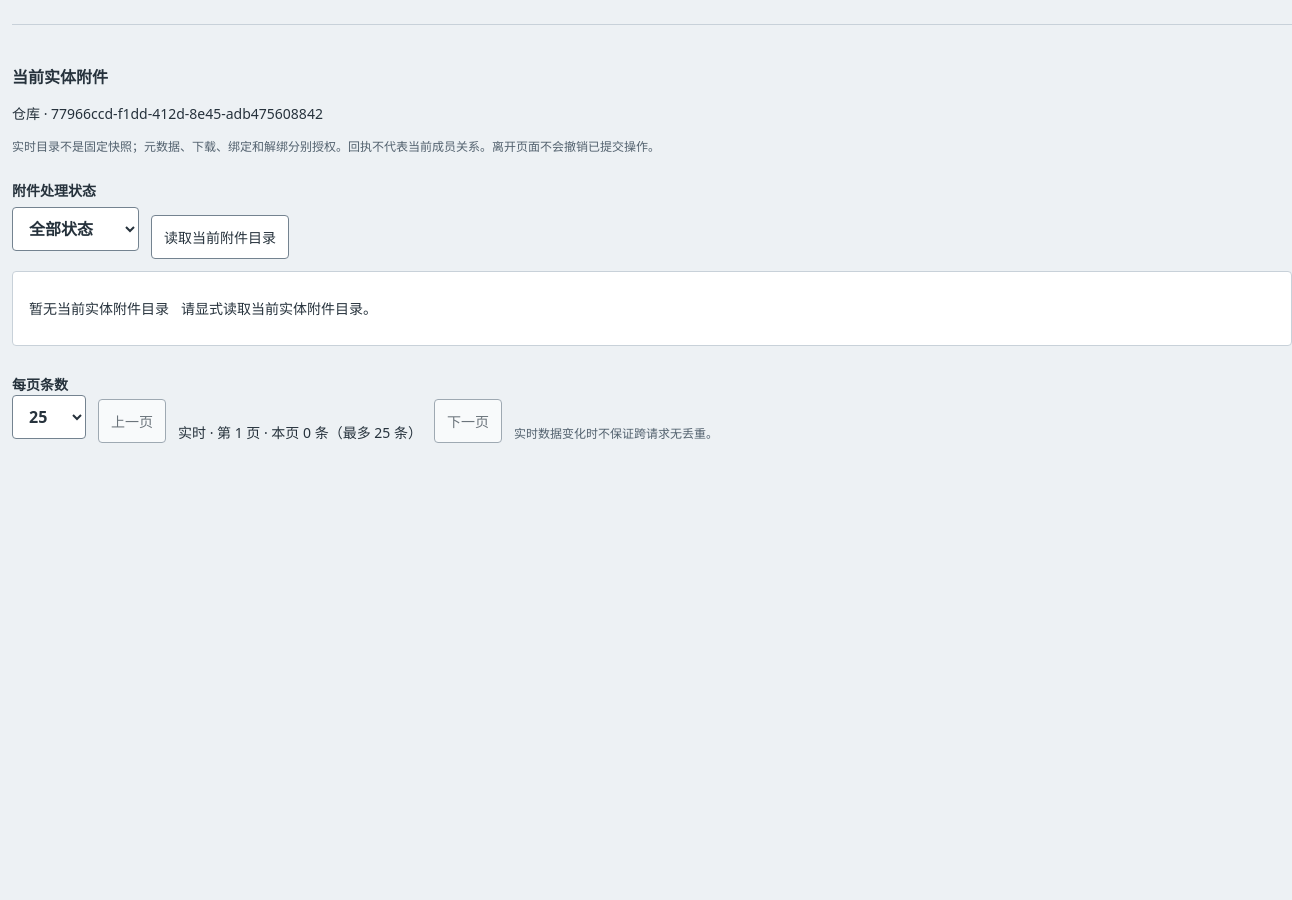
leaves a failed same-query list explicitly stale and unselectable
Click the button with test id "attachments-read": (220, 237) 151,215 -> 289,259
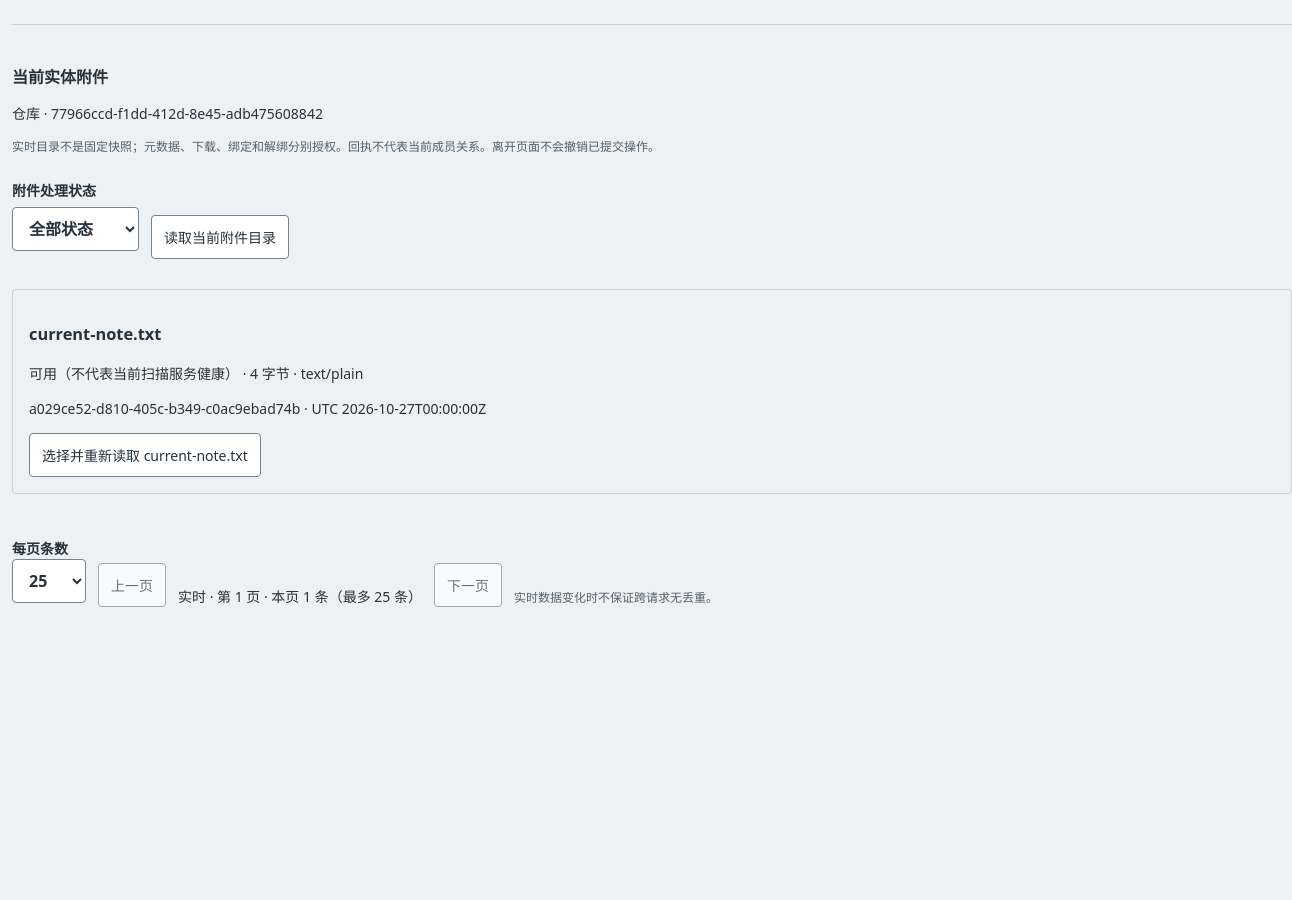
Click the button with test id "attachments-read": (220, 237) 151,215 -> 289,259
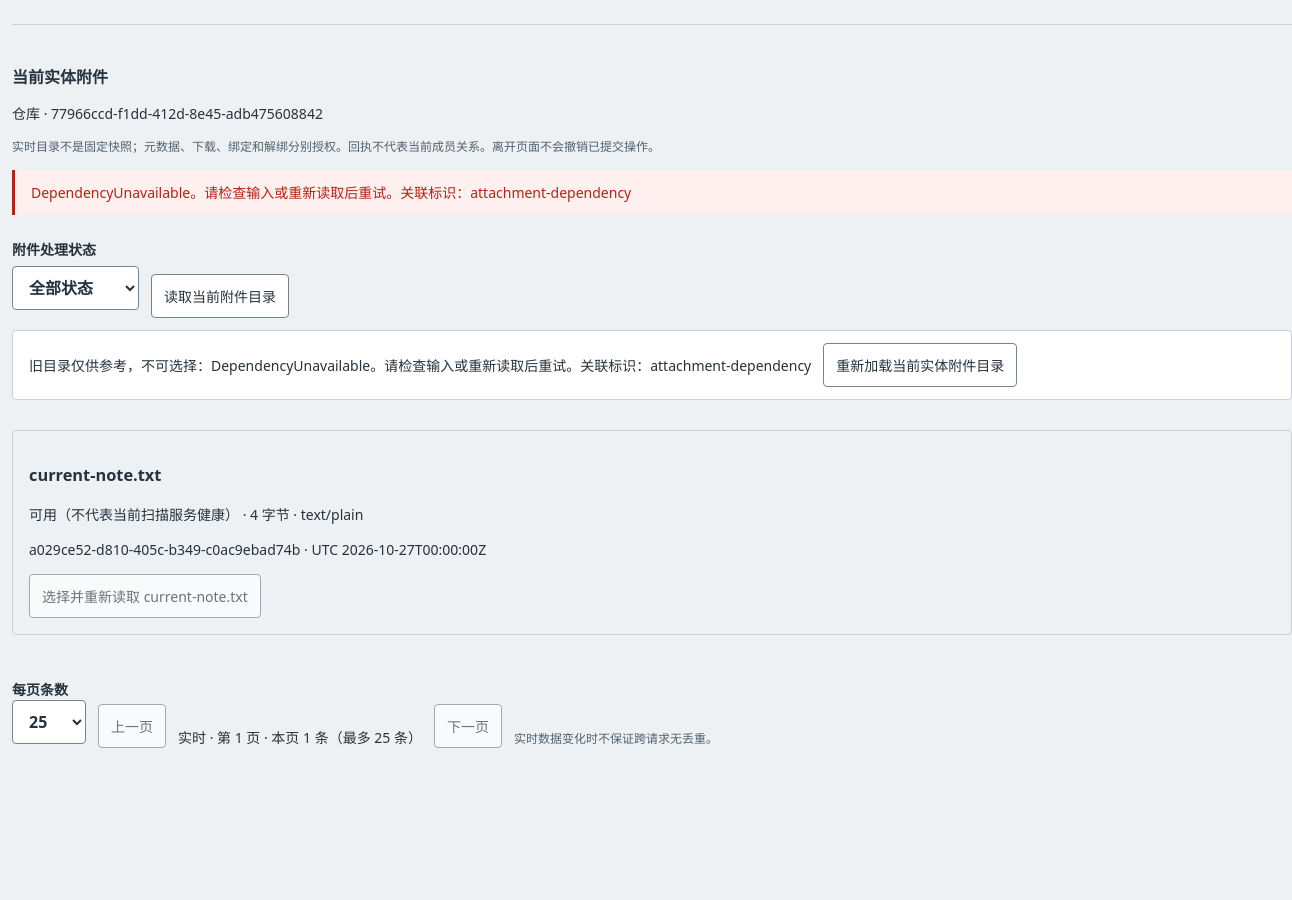
Now the text "current-note.txt" is shown, box 29,464 -> 161,486
Now the text "attachment-dependency" is shown, box 31,183 -> 631,202
Now the button with test id "attachment-select" is disabled, box 29,574 -> 261,618
